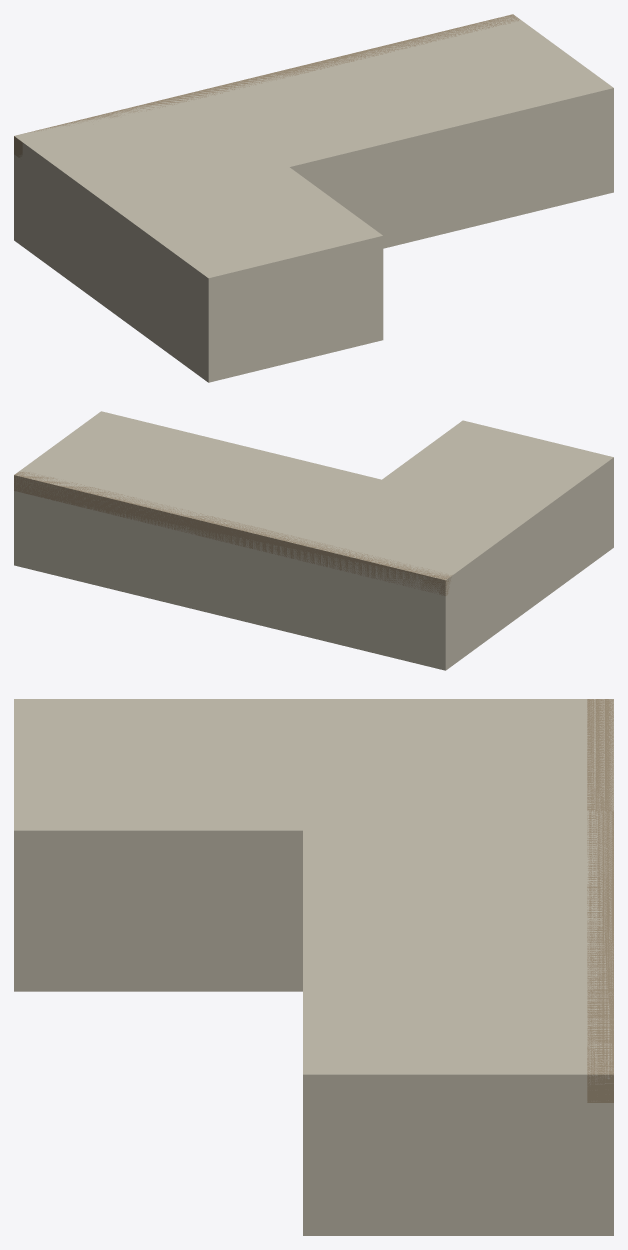
Rendered from StairLanding__Corner.fbx.
3 renders of one model, top to bottom at view 1: azimuth 30°, elevation 25°; view 2: azimuth 150°, elevation 25°; view 3: azimuth 270°, elevation 25°, orthographic. The views are drawn at different scales.
Parts seen in each view (by area): view 1: StairLanding__Corner; view 2: StairLanding__Corner; view 3: StairLanding__Corner.
Boxes of the visible parts, x1,y1,x2,y2 form: StairLanding__Corner: (14, 14, 613, 382); StairLanding__Corner: (14, 411, 613, 670); StairLanding__Corner: (14, 699, 613, 1235).
Size of the model in its own units: 400 by 80 by 270.
1 material, 1 textured.
